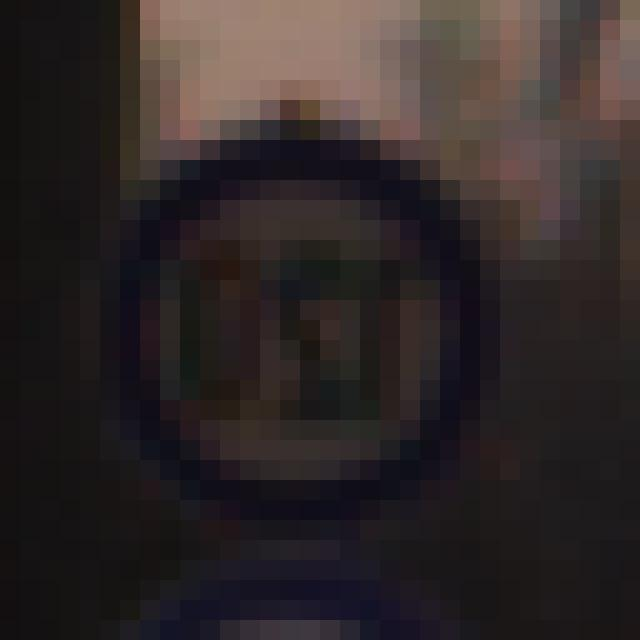SPEED LIMIT 120: (94, 138, 488, 506)
